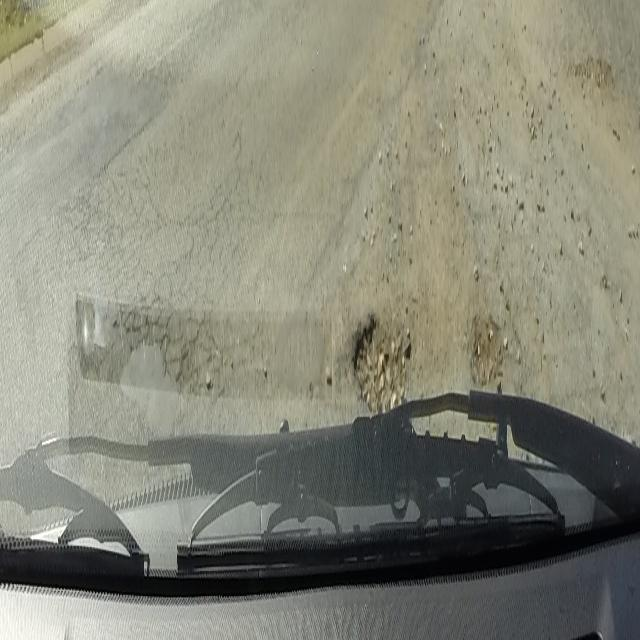pothole: (351, 300, 411, 406), (466, 314, 504, 387), (574, 51, 613, 92)
